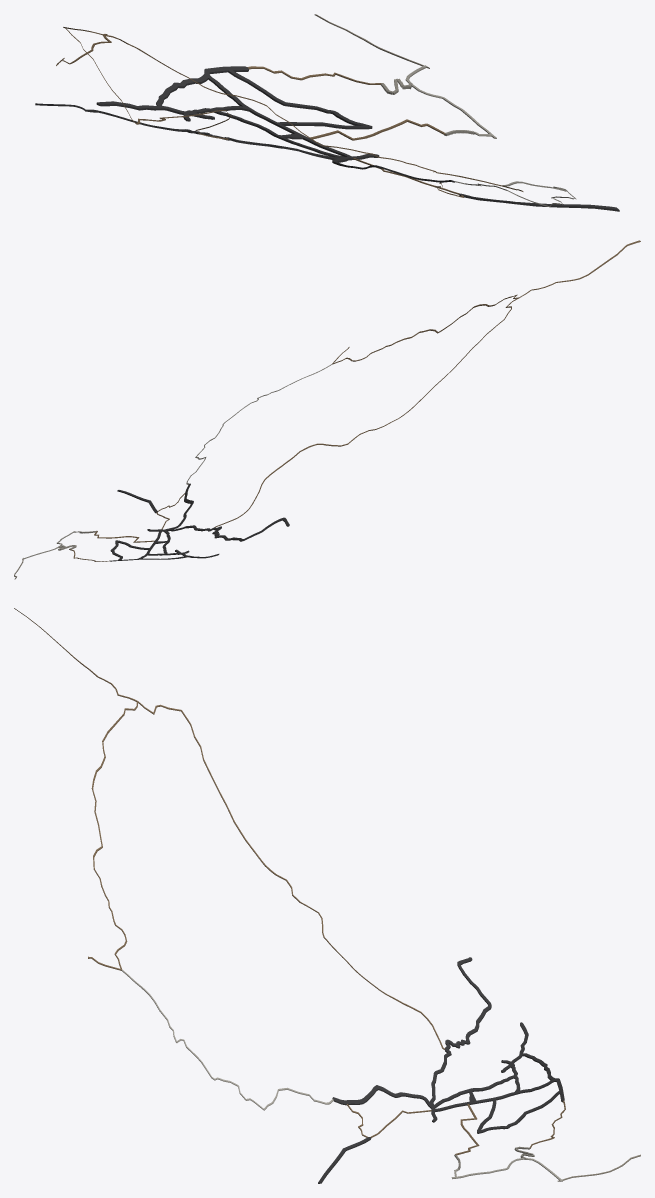
The picture shows the model from 3 angles, top to bottom: view 1: azimuth 30°, elevation 25°; view 2: azimuth 150°, elevation 25°; view 3: azimuth 270°, elevation 25°; orthographic projection. The views are drawn at different scales.
Bounding box in the file's own units: 546 × 338 × 583.
